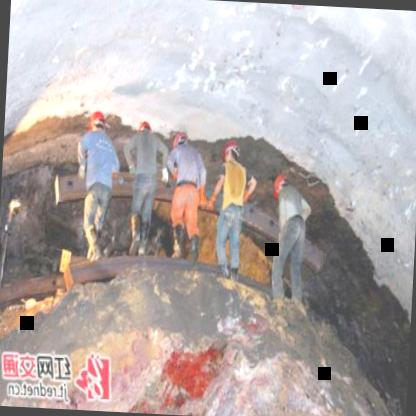helmet: (83, 107, 107, 140), (169, 128, 191, 156), (221, 138, 242, 166), (270, 172, 288, 200), (135, 115, 154, 136)
